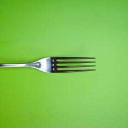Fork: (2, 41, 104, 81)
